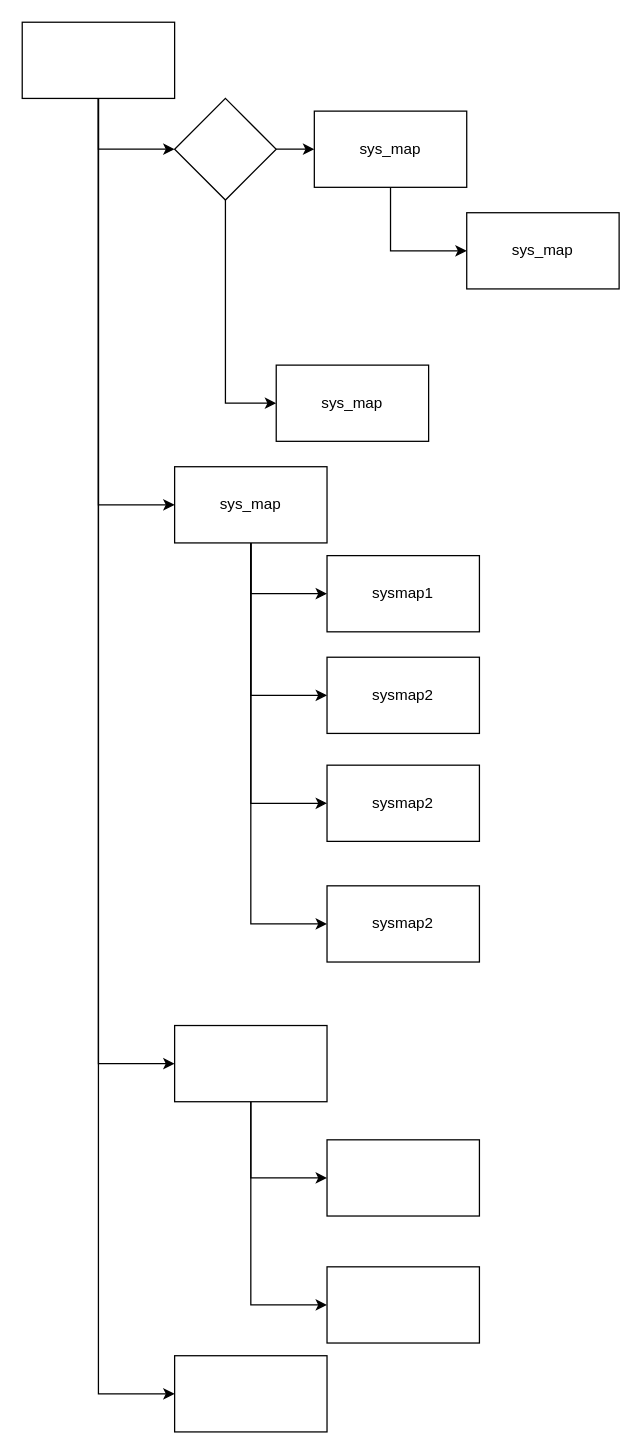
The diagram is 641 pixels wide and 1454 high, and some of its shapes have lost their labels. Each missing label, with the box of its shape:
sys_mmap: (21, 21, 175, 98)
while judge: (173, 97, 276, 200)
